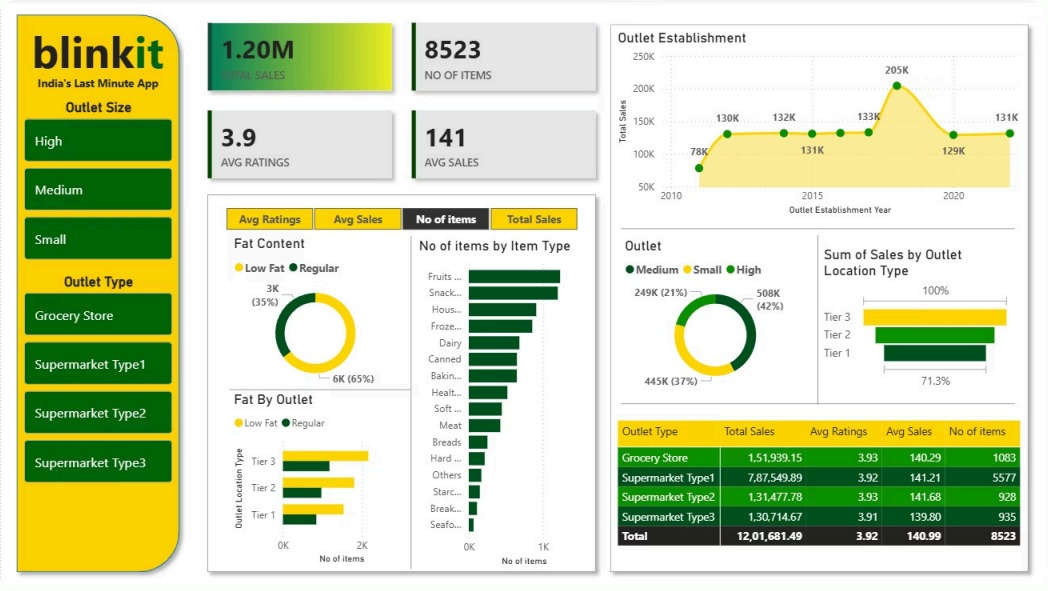

What the dashboard file says about the page in this screenshot:
{"tool":"powerbi","page":{"name":"Page 1","canvas":[1280,720],"ordinal":0},"visuals":[{"type":"shape","box":[11.2,10,217.5,700],"z":0},{"type":"textbox","box":[15.1,22,209.9,83.7],"z":1000},{"type":"textbox","box":[15.1,87.8,209.9,34.3],"z":2000},{"type":"cardVisual","fields":{"Data":["BlinkIT Grocery Data.Total Sales","BlinkIT Grocery Data.No of items","BlinkIT Grocery Data.Avg Ratings","BlinkIT Grocery Data.Avg Sales"]},"box":[225,0,533.8,249.7],"z":3000},{"type":"shape","box":[244.6,229.9,492.8,479.4],"z":4000},{"type":"donutChart","title":"Fat Content","fields":{"Y":["BlinkIT Grocery Data.No of items"],"Category":["BlinkIT Grocery Data.Item Fat Content"]},"box":[281.3,288.6,209.1,190.8],"z":5000},{"type":"slicer","fields":{"Values":["metrics.metrics"]},"box":[250.7,248.5,479.4,40.4],"z":6000},{"type":"clusteredBarChart","title":"Fat By Outlet","fields":{"Y":["BlinkIT Grocery Data.No of items"],"Category":["BlinkIT Grocery Data.Outlet Location Type"],"Series":["BlinkIT Grocery Data.Item Fat Content"]},"box":[281.3,479.4,221.3,216.4],"z":7000},{"type":"shape","box":[281.3,462.2,221.3,30.6],"z":8000},{"type":"shape","box":[485.5,289.8,34.2,407.2],"z":9000},{"type":"barChart","fields":{"Y":["BlinkIT Grocery Data.No of items"],"Category":["BlinkIT Grocery Data.Item Type"]},"box":[507.5,291,214,407.2],"z":10000},{"type":"shape","box":[737.4,22,529.5,687.2],"z":11000},{"type":"lineChart","title":"Outlet Establishment","fields":{"Y":["BlinkIT Grocery Data.Total Sales"],"Category":["BlinkIT Grocery Data.Outlet Establishment Year"]},"box":[750.8,36.7,502.6,232.3],"z":12000},{"type":"donutChart","title":"Outlet","fields":{"Y":["BlinkIT Grocery Data.Total Sales"],"Category":["BlinkIT Grocery Data.Outlet Size"]},"box":[759.4,291,231.1,190.8],"z":13000},{"type":"shape","box":[759.4,259.2,481.8,42.8],"z":14000},{"type":"funnel","fields":{"Y":["Sum(BlinkIT Grocery Data.Sales)"],"Category":["BlinkIT Grocery Data.Outlet Location Type"]},"box":[1002.7,302,238.5,179.8],"z":15000},{"type":"shape","box":[983.2,288.6,34.2,216.4],"z":16000},{"type":"pivotTable","fields":{"Rows":["BlinkIT Grocery Data.Outlet Type"],"Values":["BlinkIT Grocery Data.Total Sales","BlinkIT Grocery Data.Avg Ratings","BlinkIT Grocery Data.Avg Sales","BlinkIT Grocery Data.No of items"]},"box":[750.8,495.2,505,204.2],"z":17000},{"type":"shape","box":[759.4,473.2,481.8,42.8],"z":18000},{"type":"advancedSlicerVisual","fields":{"Values":["BlinkIT Grocery Data.Outlet Size"]},"box":[24.5,122.3,192,201.8],"z":18001},{"type":"advancedSlicerVisual","fields":{"Values":["BlinkIT Grocery Data.Outlet Type"]},"box":[24.5,335.1,192,262.9],"z":18002}]}

Visuals, with their boxes in screenshot pixels (x1, y1, x2, y2), scaled from the page's 1280x720 canvas onto the 1048x591 screenshot:
shape: box=[9, 8, 187, 583]
textbox: box=[12, 18, 184, 87]
textbox: box=[12, 72, 184, 100]
cardVisual - BlinkIT Grocery Data.Total Sales x BlinkIT Grocery Data.No of items: box=[184, 0, 621, 205]
shape: box=[200, 189, 604, 582]
"Fat Content" donutChart: box=[230, 237, 402, 394]
slicer - metrics.metrics: box=[205, 204, 598, 237]
"Fat By Outlet" clusteredBarChart: box=[230, 394, 412, 571]
shape: box=[230, 379, 412, 405]
shape: box=[398, 238, 426, 572]
barChart - BlinkIT Grocery Data.No of items x BlinkIT Grocery Data.Item Type: box=[416, 239, 591, 573]
shape: box=[604, 18, 1037, 582]
"Outlet Establishment" lineChart: box=[615, 30, 1026, 221]
"Outlet" donutChart: box=[622, 239, 811, 395]
shape: box=[622, 213, 1016, 248]
funnel - Sum(BlinkIT Grocery Data.Sales) x BlinkIT Grocery Data.Outlet Location Type: box=[821, 248, 1016, 395]
shape: box=[805, 237, 833, 415]
pivotTable - BlinkIT Grocery Data.Outlet Type x BlinkIT Grocery Data.Total Sales: box=[615, 406, 1028, 574]
shape: box=[622, 388, 1016, 424]
advancedSlicerVisual - BlinkIT Grocery Data.Outlet Size: box=[20, 100, 177, 266]
advancedSlicerVisual - BlinkIT Grocery Data.Outlet Type: box=[20, 275, 177, 491]
